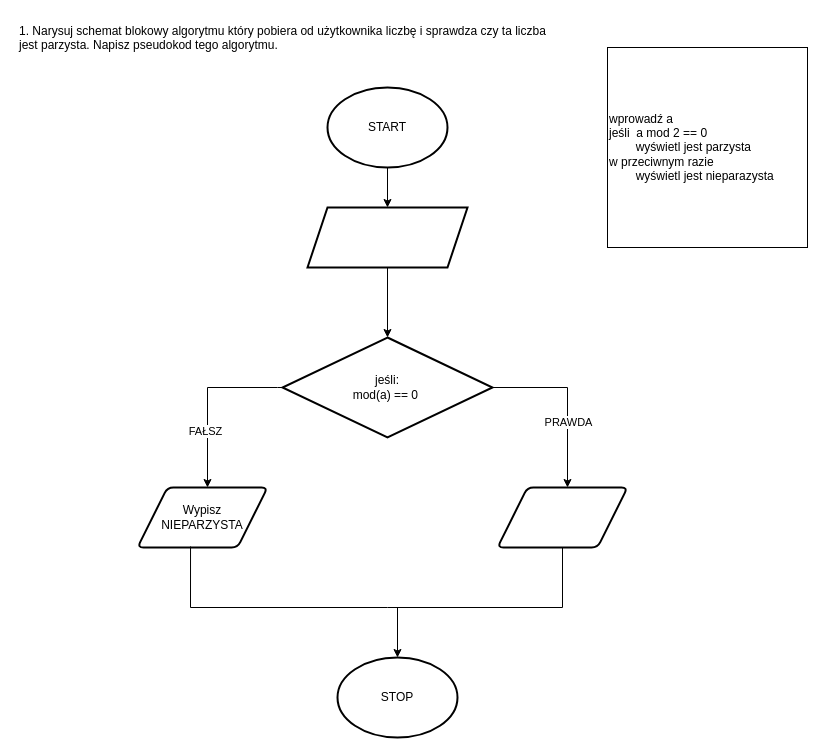
Image size: 825x755. Some labels were removed from this diagram. Here are the shapes that lost their labels. From the top down, the centre of each, then its label:
At point 387,237: "wczytaj (a)".
At point 562,517: "Wypisz PARZYSTA".
